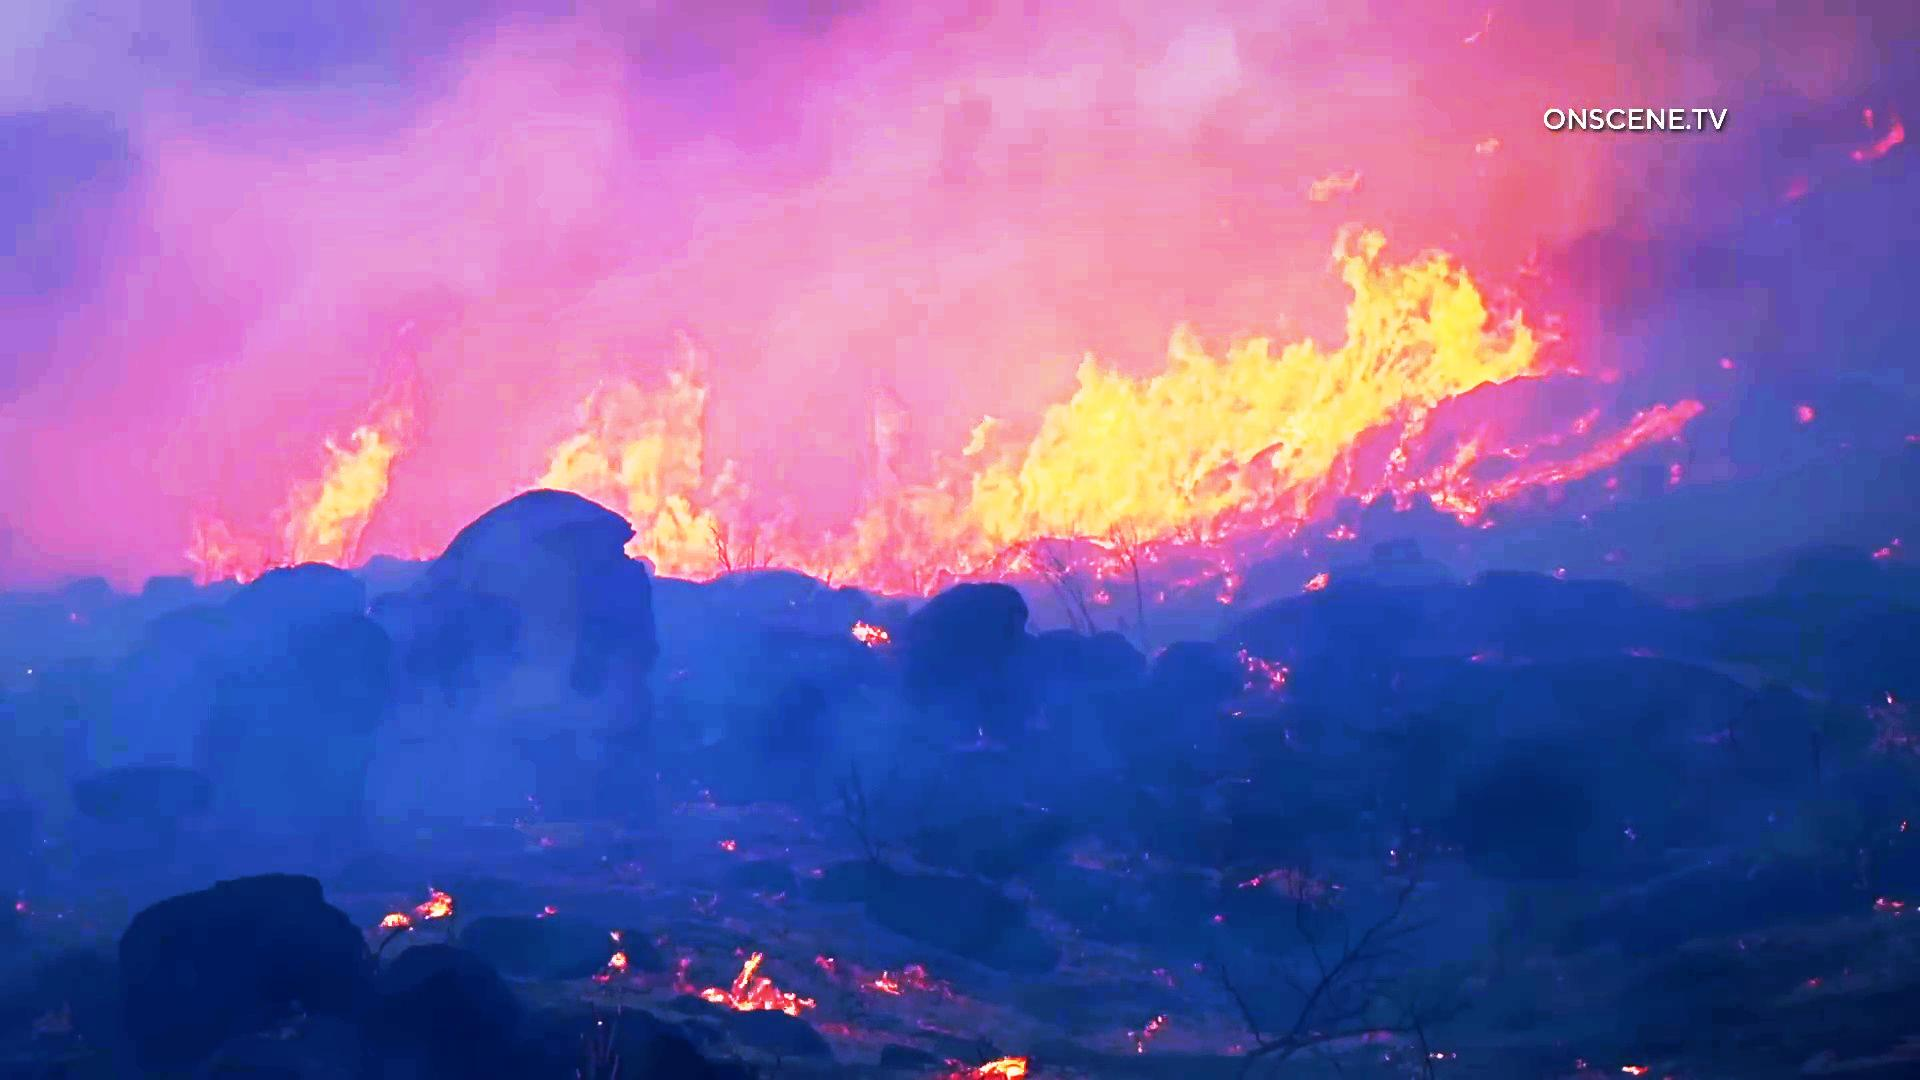fire: (978, 318, 1300, 549), (1295, 198, 1556, 429), (207, 356, 418, 579), (735, 398, 982, 580), (563, 357, 717, 559)
